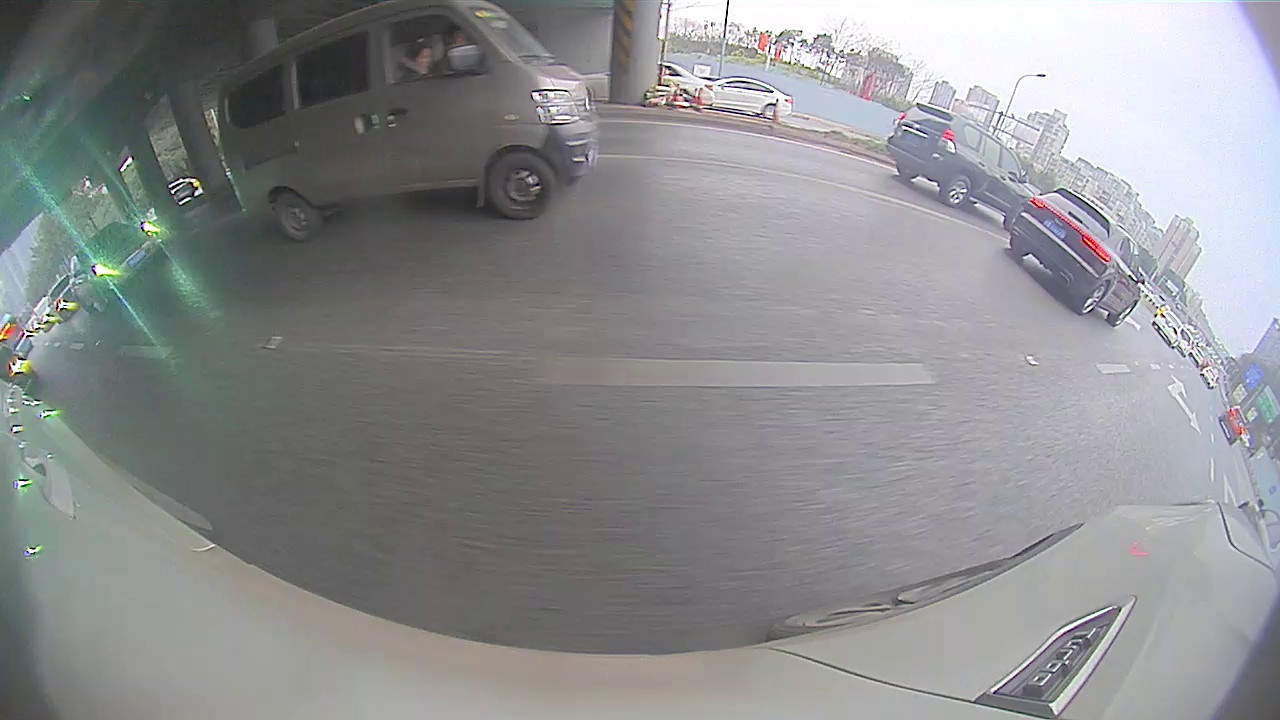car: (215, 2, 599, 242), (1008, 186, 1143, 327), (887, 101, 1036, 228), (67, 219, 168, 317), (706, 75, 796, 122)
front: (486, 149, 555, 220), (1114, 301, 1139, 327)
rear: (275, 191, 324, 243), (1075, 281, 1111, 317), (942, 176, 976, 211)
